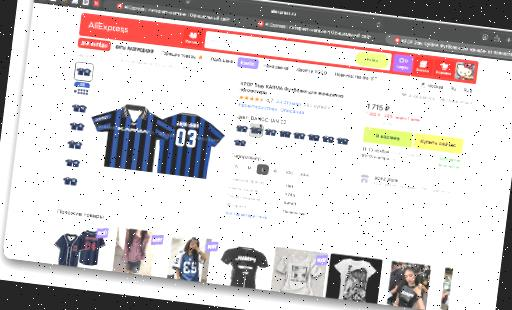aliexpress: (1, 1, 512, 310)
